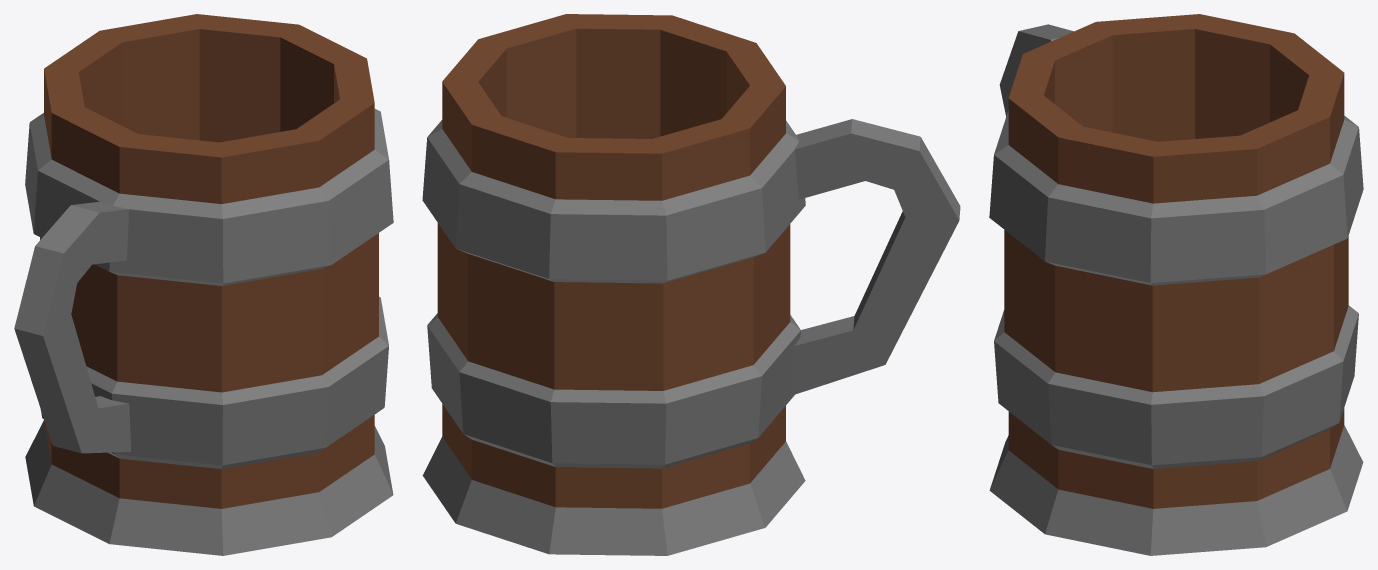
Rendered from mug_with_half_beer_2.fbx.
3 views of the same model, side by side, from view 1: azimuth 30°, elevation 25°; view 2: azimuth 150°, elevation 25°; view 3: azimuth 270°, elevation 25° (orthographic).
Parts seen in each view (by area): view 1: beer_stein.001; view 2: beer_stein.001; view 3: beer_stein.001.
Boxes of the visible parts, left/top/right/bottom form: beer_stein.001: left=14, top=14, right=393, bottom=555; beer_stein.001: left=422, top=14, right=960, bottom=555; beer_stein.001: left=989, top=14, right=1363, bottom=555.
Bounding box in the file's own units: 22.34 × 19.32 × 16.76.
